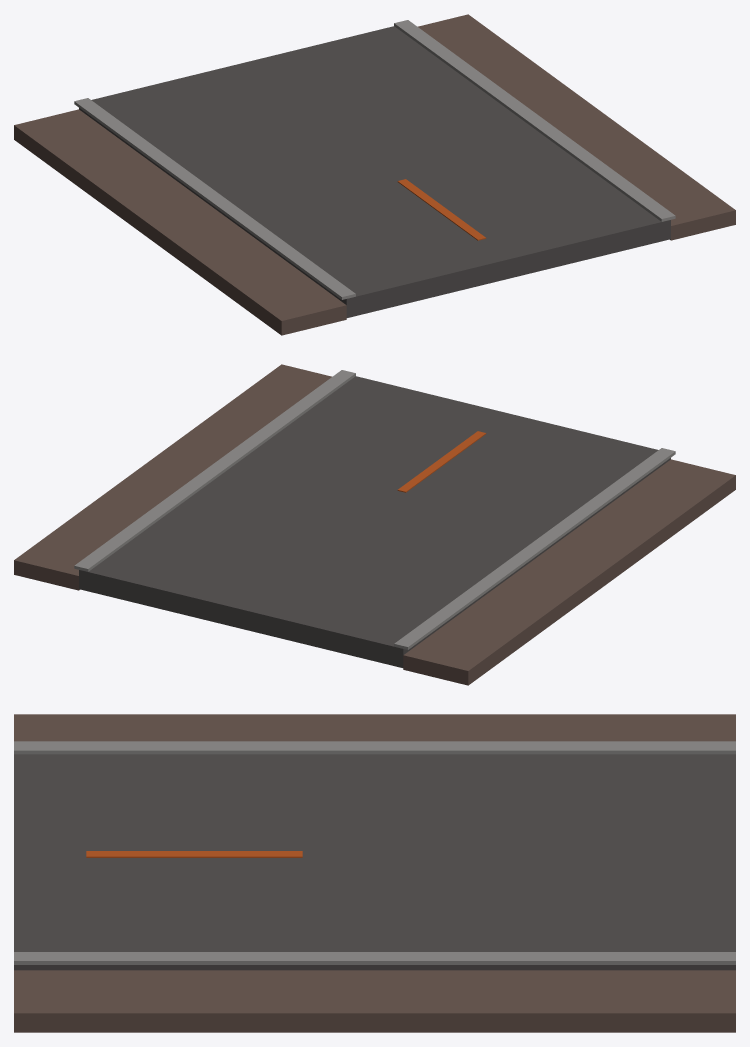
The model's file is B_road.glb.
3 views of the same model, one above another, from view 1: azimuth 30°, elevation 25°; view 2: azimuth 150°, elevation 25°; view 3: azimuth 270°, elevation 25° (orthographic). The views are drawn at different scales.
Parts seen in each view (by area): view 1: Cube, Cube.002, Cube.004, Cube.001, Cube.003, Cube.005; view 2: Cube, Cube.002, Cube.004, Cube.001, Cube.003, Cube.005; view 3: Cube, Cube.004, Cube.002, Cube.001, Cube.003, Cube.005.
Part boxes in pixels (box(x1,y1,x2,y2)): Cube: box(79, 26, 670, 317); Cube.002: box(14, 109, 346, 335); Cube.004: box(418, 14, 735, 240); Cube.001: box(74, 98, 355, 299); Cube.003: box(394, 20, 675, 221); Cube.005: box(397, 179, 486, 240); Cube: box(79, 376, 670, 667); Cube.002: box(403, 459, 735, 685); Cube.004: box(14, 364, 331, 590); Cube.001: box(394, 448, 675, 649); Cube.003: box(74, 370, 355, 571); Cube.005: box(397, 431, 486, 492); Cube: box(14, 754, 735, 970); Cube.004: box(14, 970, 735, 1032); Cube.002: box(14, 714, 735, 741); Cube.001: box(14, 741, 735, 754); Cube.003: box(14, 952, 735, 964); Cube.005: box(86, 851, 302, 857).
Bounding box in the file's own units: 9.8 × 0.49 × 10.
